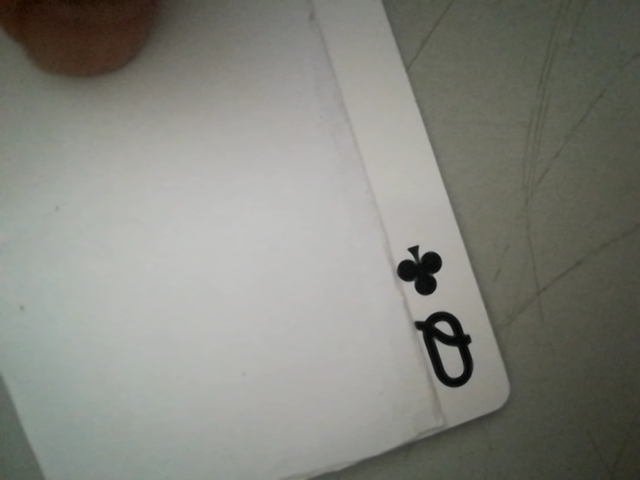mh q: (387, 234, 490, 403)
